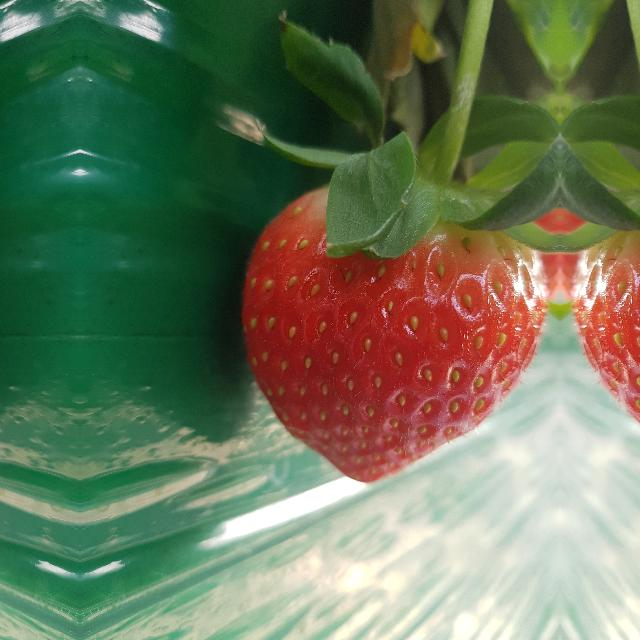Health_100: (238, 186, 544, 482), (576, 186, 640, 482)
